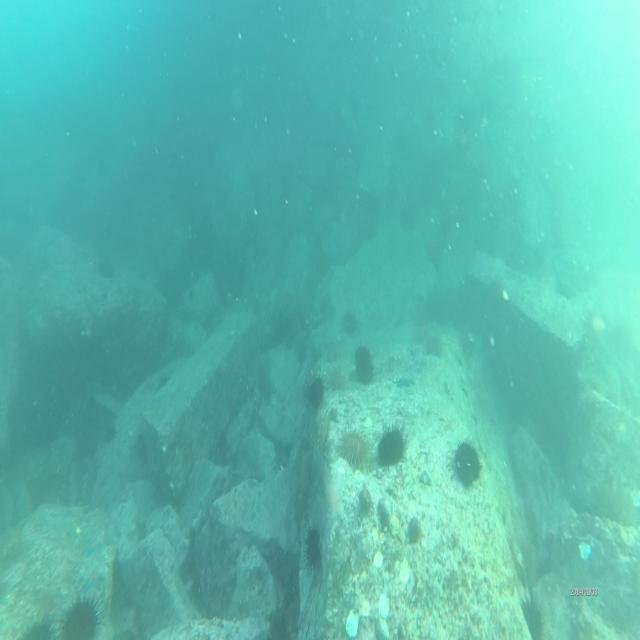echinus: (57, 589, 101, 640), (339, 420, 372, 470), (372, 423, 407, 467), (452, 439, 482, 488), (301, 518, 326, 570), (351, 342, 377, 384), (310, 412, 331, 462), (307, 368, 325, 410), (323, 366, 346, 394), (339, 308, 361, 337), (96, 251, 117, 280), (425, 328, 444, 360)
starfish: (78, 564, 109, 598), (396, 367, 416, 392)
